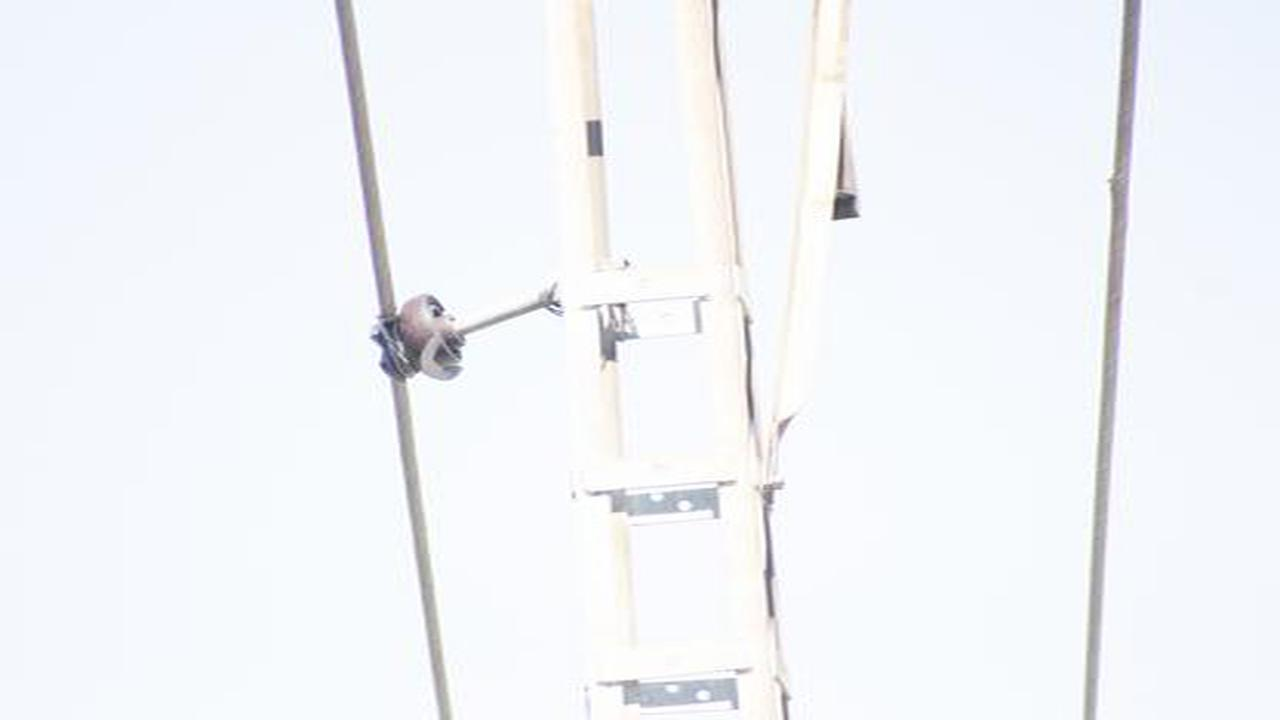insulator_pin: (364, 287, 475, 388)
